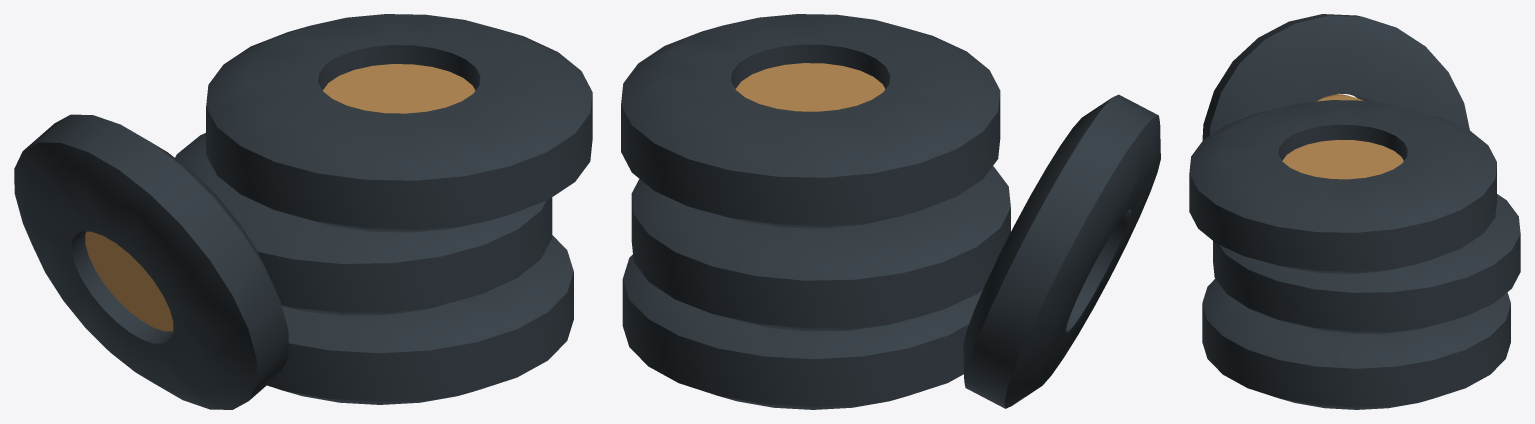
The model's file is PropTyreStack.fbx.
The picture shows the model from 3 angles, left to right: view 1: azimuth 30°, elevation 25°; view 2: azimuth 150°, elevation 25°; view 3: azimuth 270°, elevation 25°; orthographic projection. The views are drawn at different scales.
Visible parts, largest first — view 1: PropTyreStack_LOD0; view 2: PropTyreStack_LOD0; view 3: PropTyreStack_LOD0.
Boxes of the visible parts, x1,y1,x2,y2 form: PropTyreStack_LOD0: (14, 14, 592, 409); PropTyreStack_LOD0: (621, 14, 1160, 409); PropTyreStack_LOD0: (1189, 14, 1520, 409).
Size of what is drawn, in the model's own units: 0.6869 by 0.3915 by 0.4932.
